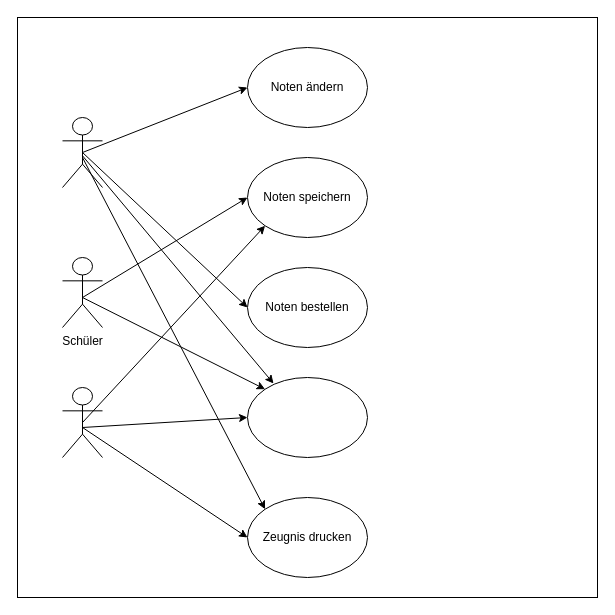
Some shapes in this 615 by 615 pixel diagram are drawn without their labels. The centre of each missing label's shape, as x and y in pixels:
"Eltern" goes at pixel 82 422.
"Lehrer" goes at pixel 82 152.
"Noten sehen" goes at pixel 307 417.
